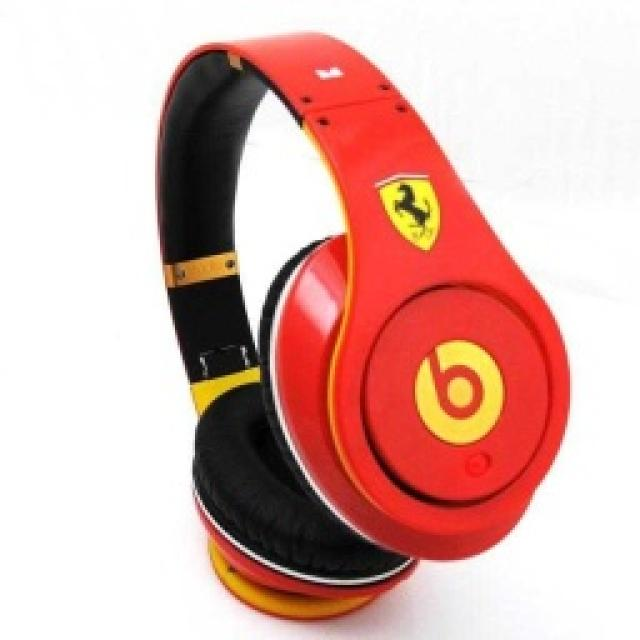headphones: (152, 28, 570, 620)
